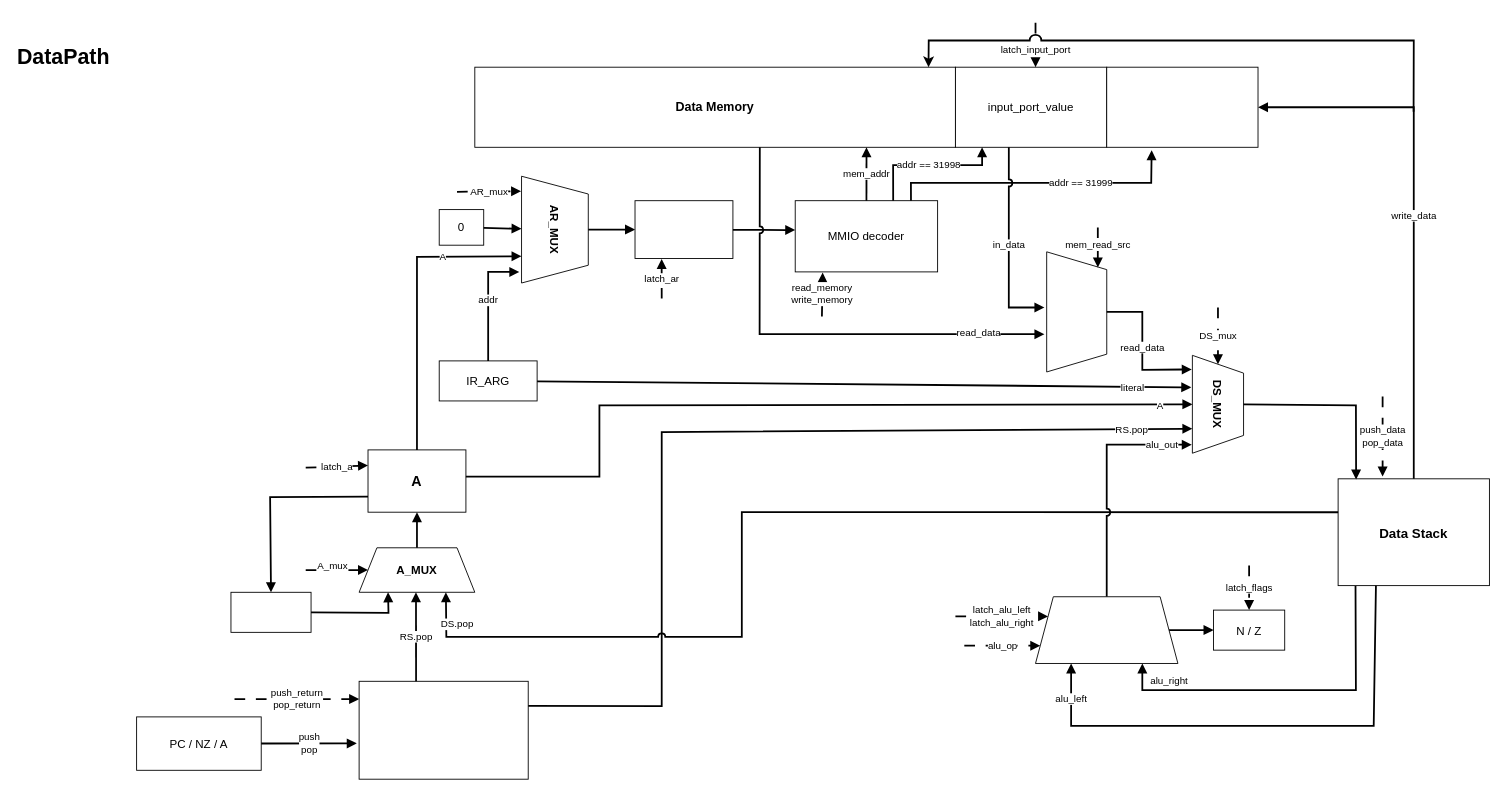
This 1505x795 diagram has some shape labels left out. Here are the shapes that lost their labels. From the top down, the centre of each, then its label:
point (1182, 106): output_buffer
point (683, 229): AR
point (1076, 311): MEM_READ_MUX
point (270, 611): A + 1
point (1106, 629): ALU
point (443, 729): Return Stack
